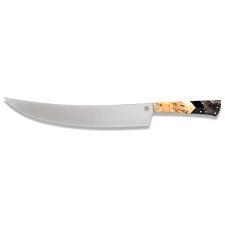Knife: (2, 96, 221, 129)
